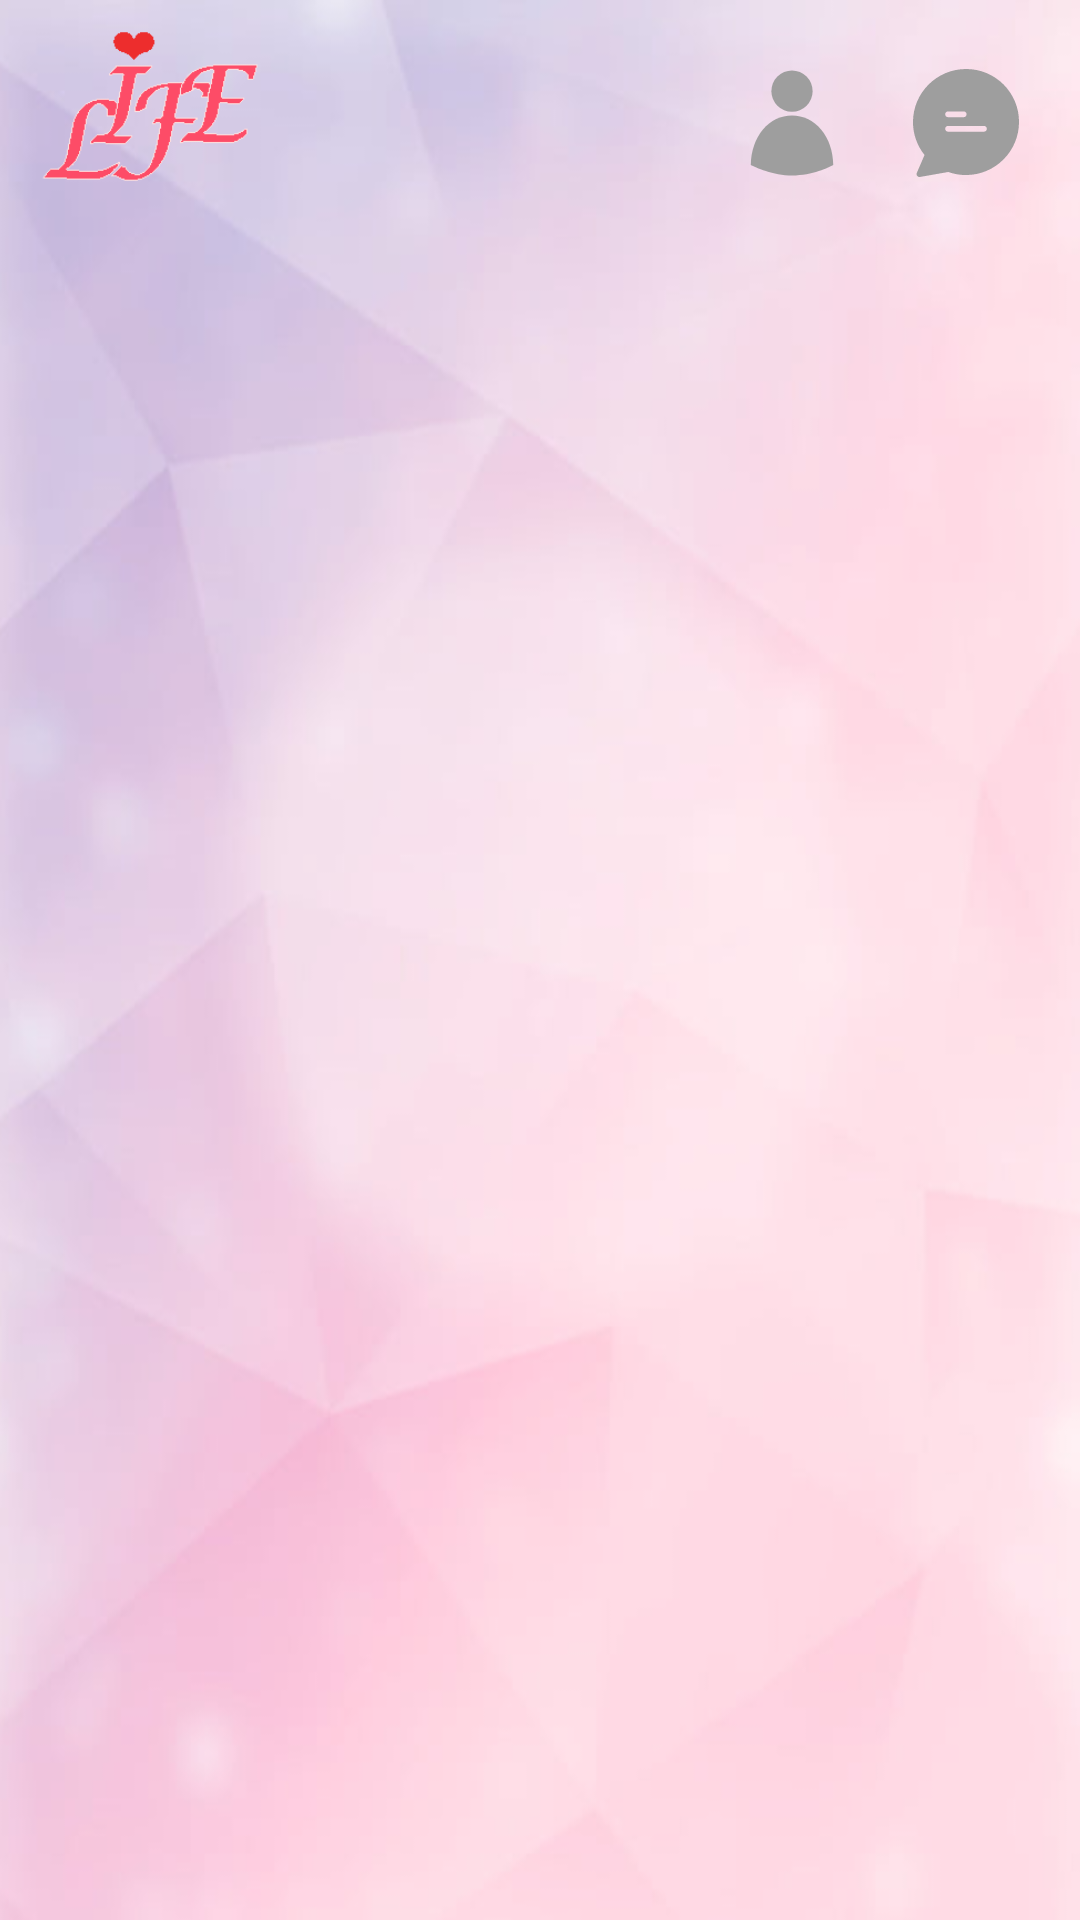

Screen size 1080px x 1920px. Icon name, then its center in pixels as (x=x, y=y):
profile: (x=792, y=123)
